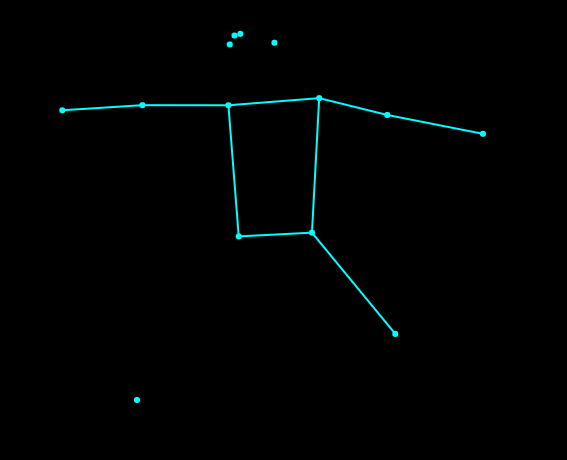warrior_2: (47, 26, 492, 406)
